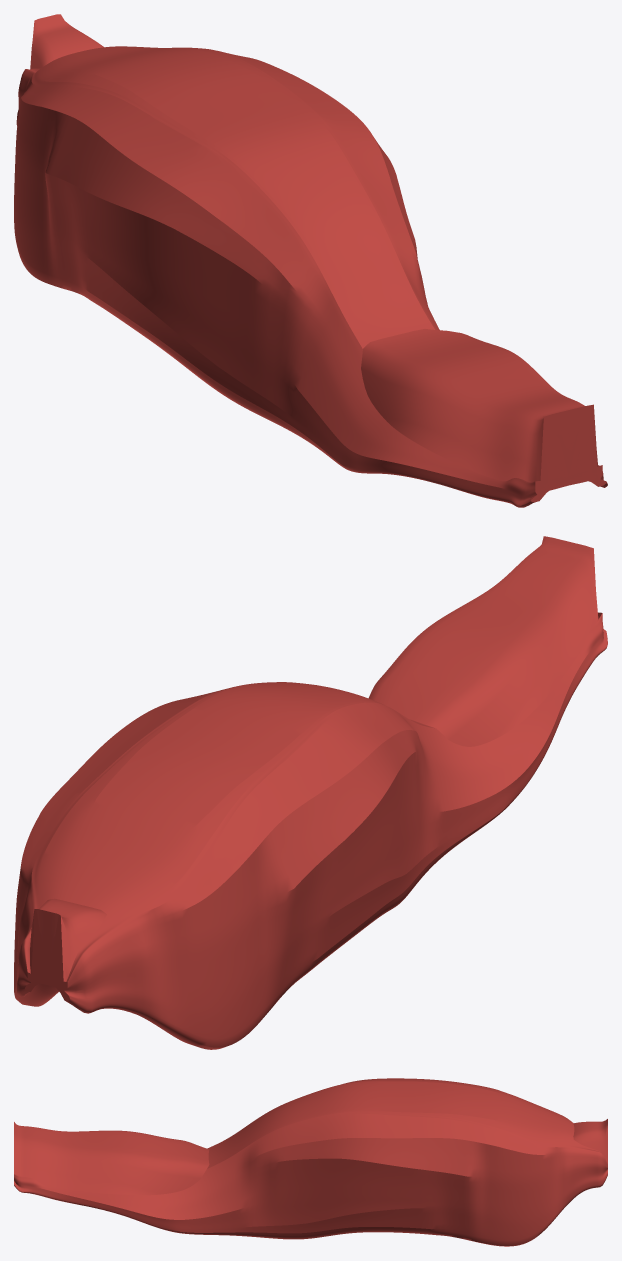
Rendered from adventure_3.glb.
The picture shows the model from 3 angles, top to bottom: view 1: azimuth 30°, elevation 25°; view 2: azimuth 150°, elevation 25°; view 3: azimuth 270°, elevation 25°; orthographic projection. The views are drawn at different scales.
Visible parts, largest first — view 1: lod0; view 2: lod0; view 3: lod0.
Part boxes in pixels (x1,y1,x2,y2): lod0: [14, 14, 607, 507]; lod0: [14, 536, 607, 1049]; lod0: [14, 1078, 607, 1246].
Size of what is drawn, in the model's own units: 0.4736 by 0.3825 by 1.65.
